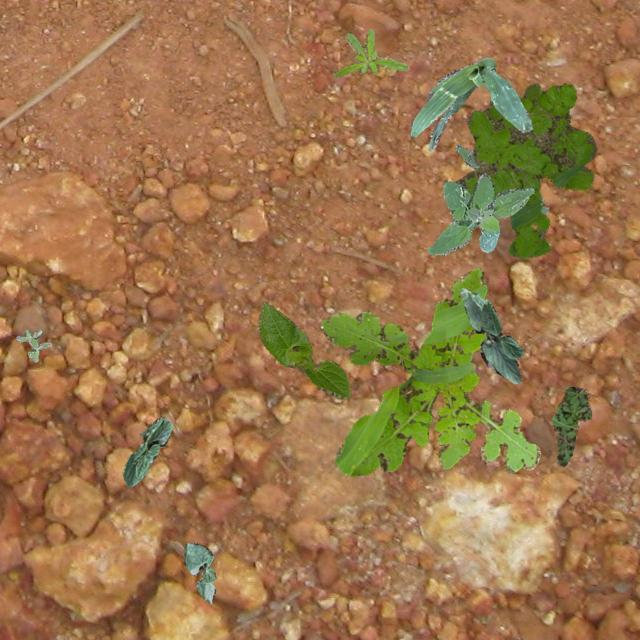crop: (408, 56, 532, 150), (256, 301, 348, 398), (460, 286, 522, 382), (121, 416, 170, 486), (183, 542, 214, 602)
weed: (320, 266, 540, 476), (454, 82, 596, 258), (427, 172, 532, 254), (454, 144, 548, 214), (332, 28, 408, 76), (550, 386, 590, 466), (14, 328, 50, 361)
